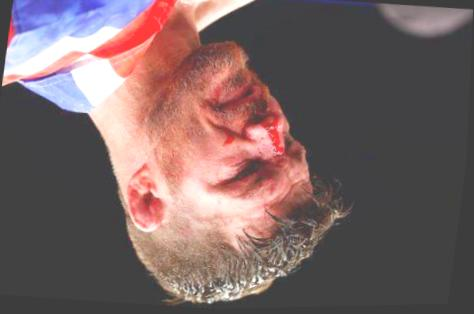Fire: (218, 112, 291, 160)
